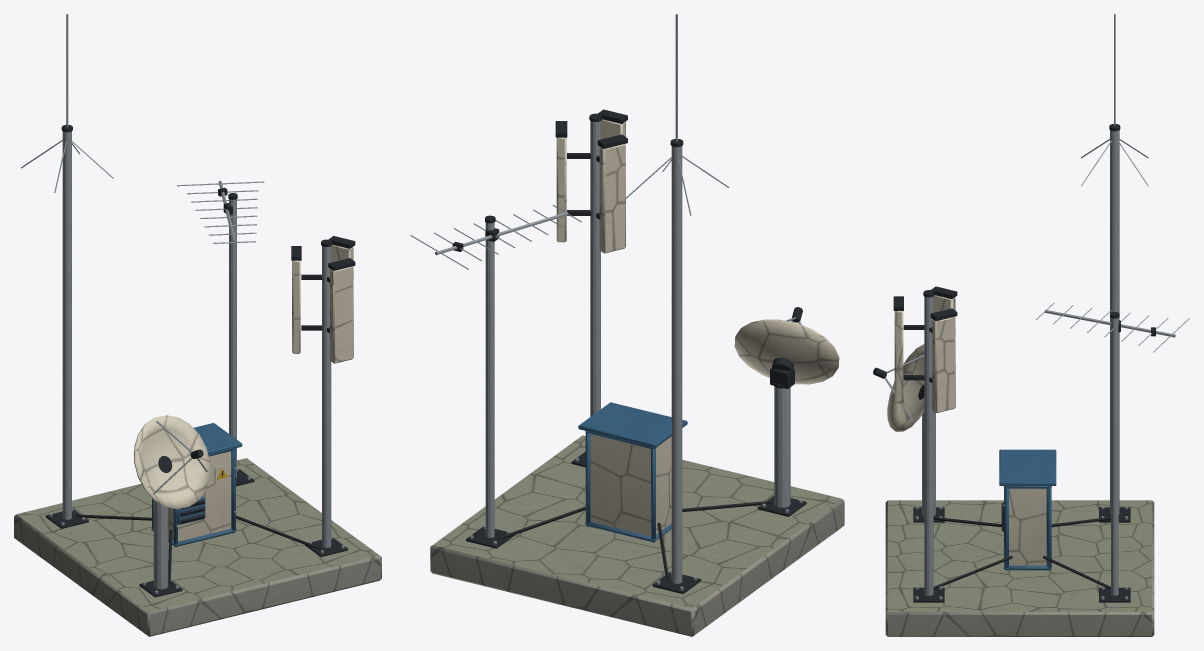
Rendered from antenna_array.glb.
The picture shows the model from 3 angles, left to right: view 1: azimuth 30°, elevation 25°; view 2: azimuth 150°, elevation 25°; view 3: azimuth 270°, elevation 25°; orthographic projection. The views are drawn at different scales.
Visible parts, largest first — view 1: antenna_array.001; view 2: antenna_array.001; view 3: antenna_array.001.
Boxes of the visible parts, x1=… form: antenna_array.001: x1=14, y1=14, x2=381, y2=636; antenna_array.001: x1=410, y1=14, x2=844, y2=636; antenna_array.001: x1=873, y1=14, x2=1189, y2=636.
Size of the model in its own units: 3.67 by 7.35 by 4.01.
Materials: 10 (10 with a texture image).
